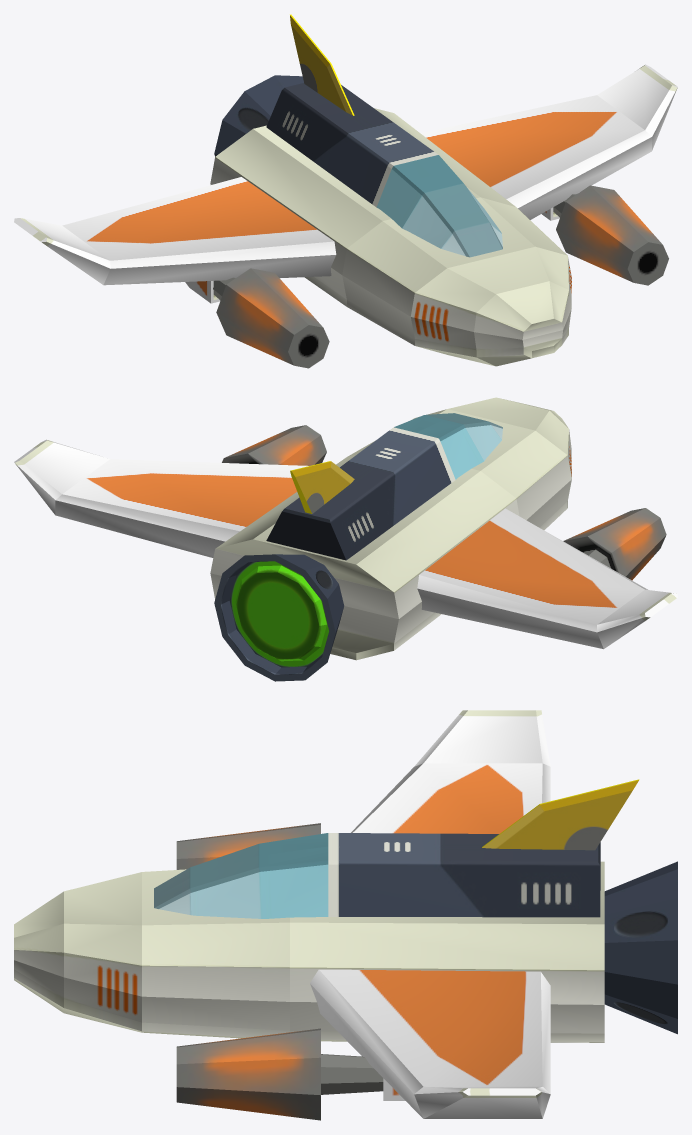
Rendered from PrototypeZero.fbx.
The picture shows the model from 3 angles, top to bottom: view 1: azimuth 30°, elevation 25°; view 2: azimuth 150°, elevation 25°; view 3: azimuth 270°, elevation 25°; orthographic projection. The views are drawn at different scales.
Visible parts, largest first — view 1: Body, RightGun, LeftGun; view 2: Body, RightGun, LeftGun; view 3: Body, LeftGun, RightGun.
Boxes of the visible parts, left/top/right/bottom form: Body: left=14, top=14, right=677, bottom=366; RightGun: left=185, top=268, right=329, bottom=368; LeftGun: left=542, top=185, right=668, bottom=285; Body: left=14, top=397, right=677, bottom=681; RightGun: left=563, top=508, right=666, bottom=580; LeftGun: left=222, top=425, right=326, bottom=465; Body: left=14, top=710, right=677, bottom=1118; LeftGun: left=176, top=1028, right=405, bottom=1120; RightGun: left=176, top=823, right=320, bottom=869.
Bounding box in the file's own units: 787 × 235 × 574.
Materials: 2 (2 with a texture image).
